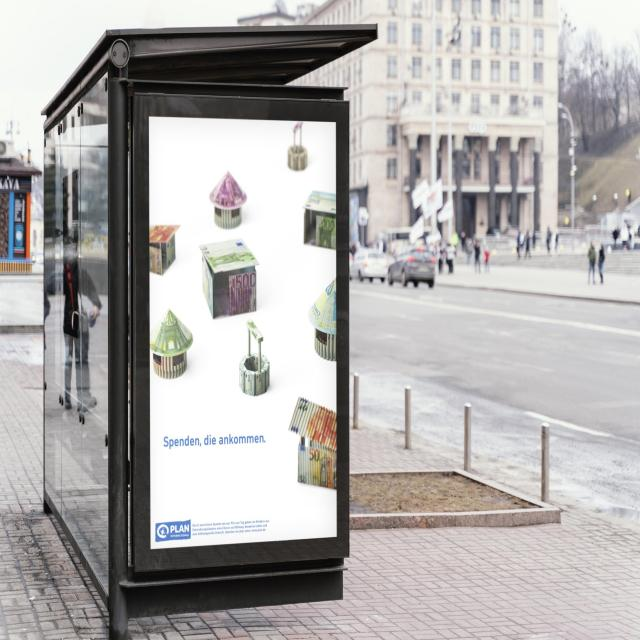Werbetafel frei: (113, 91, 352, 590)
